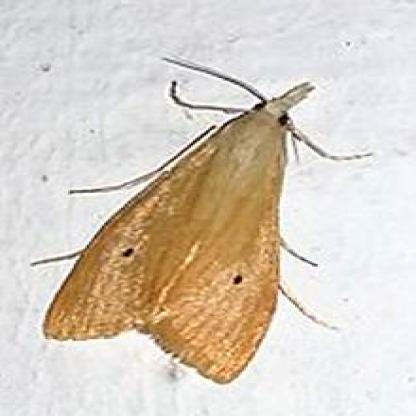stem-borer: (26, 48, 378, 387)
